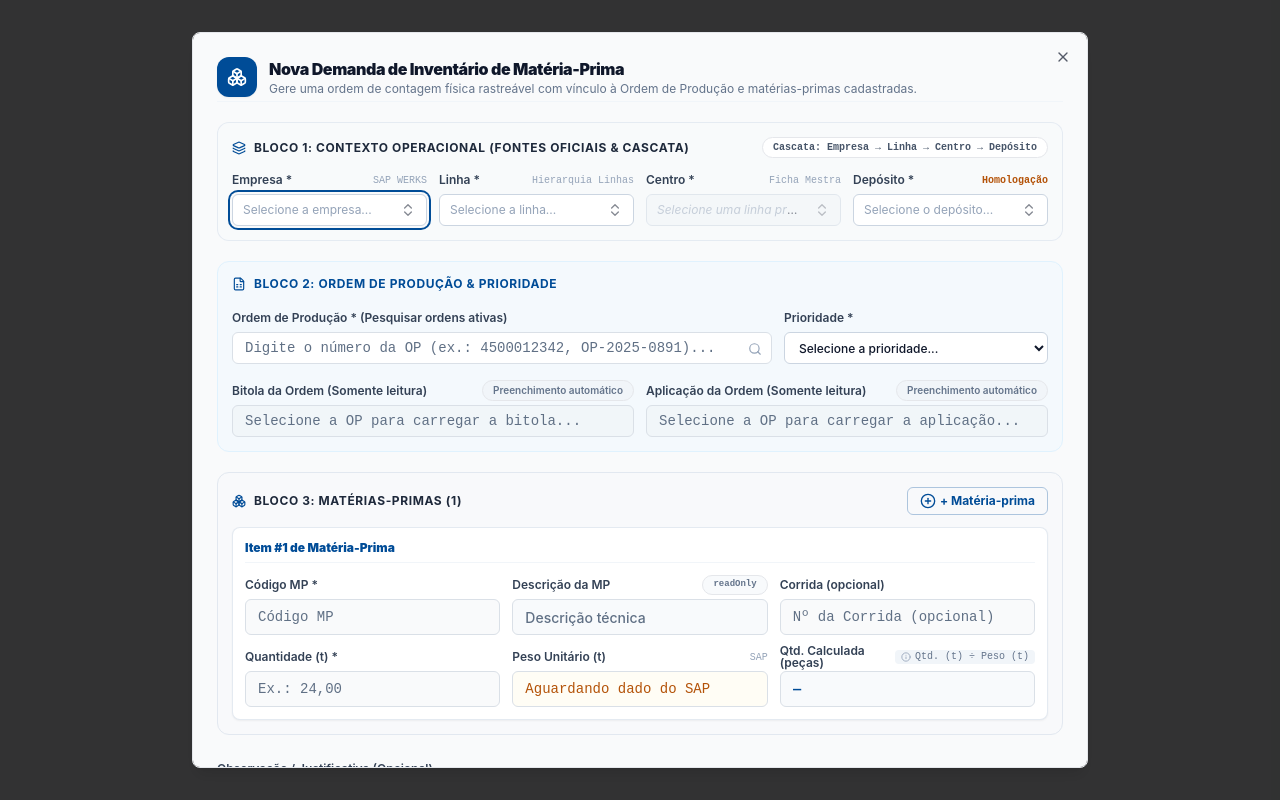
Scenario: NovaDemandaInventarioModal — Bloco 1 Contexto Operacional com Cascata e Fontes Oficiais › Teste 2: Deve disparar consulta RFC WERKS (T001W) e exibir erro amigável quando RFC retornar 503
Note: Clica no trigger de Empresa
Click the dropdown with test id "select-empresa-trigger" at (330, 210), box x1=232 y1=194 x2=427 y2=226
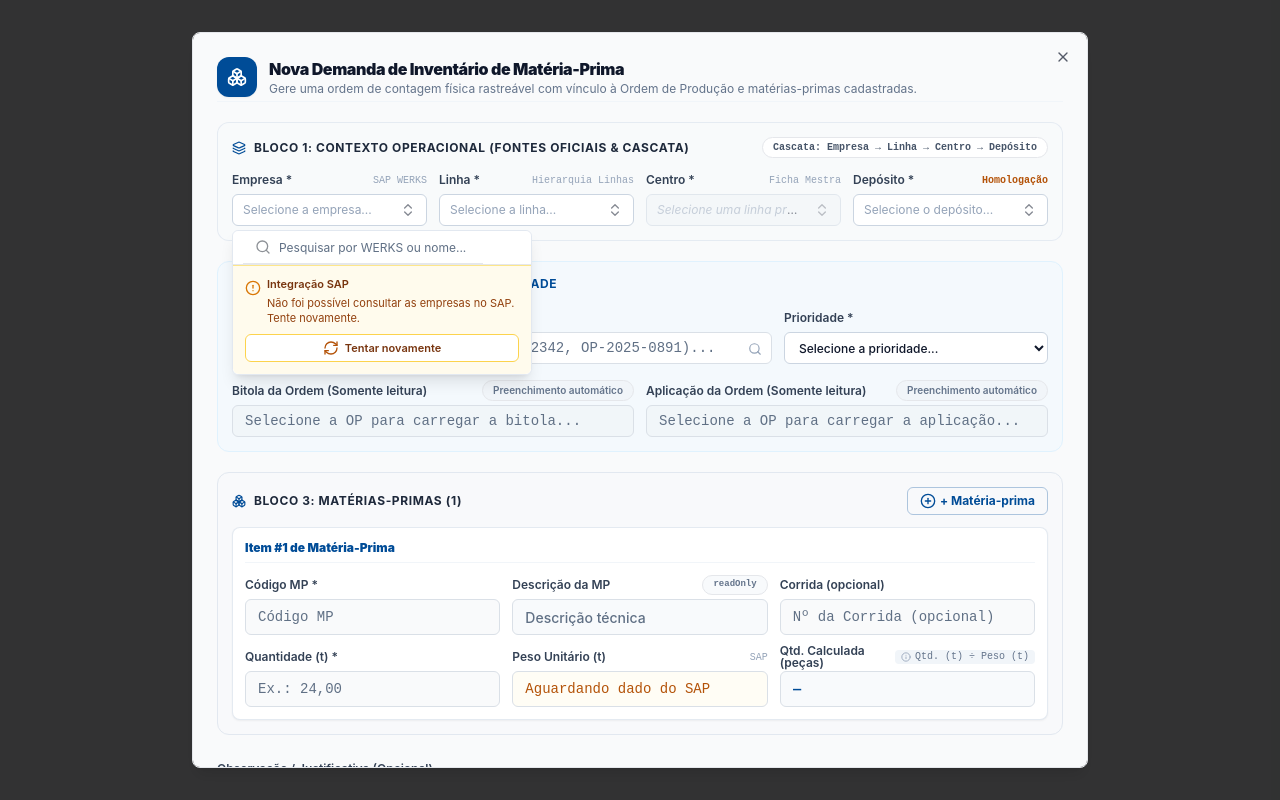
Now the element with test id "sap-empresa-error" is shown, box x1=233 y1=265 x2=531 y2=374
Now the text "Não foi possível consultar as empresas no SAP. Tente novamente." is shown, box x1=267 y1=296 x2=519 y2=326
Now the button with test id "btn-retry-empresa" is shown, box x1=245 y1=334 x2=519 y2=362
